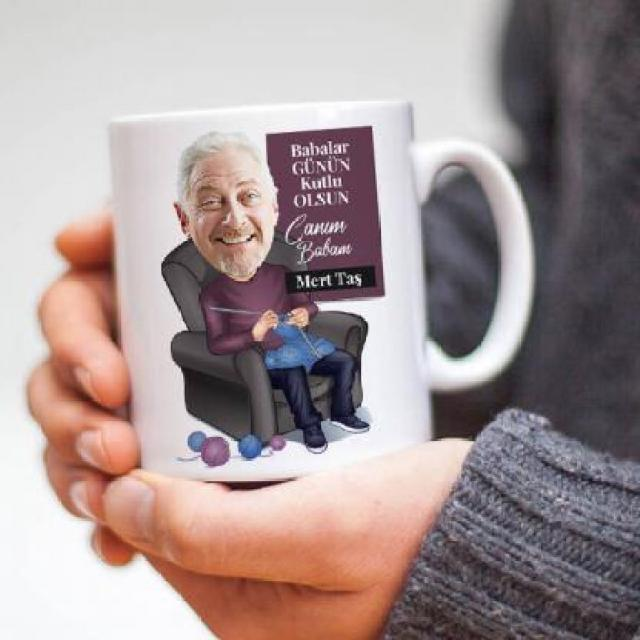taza: (92, 82, 547, 488)
